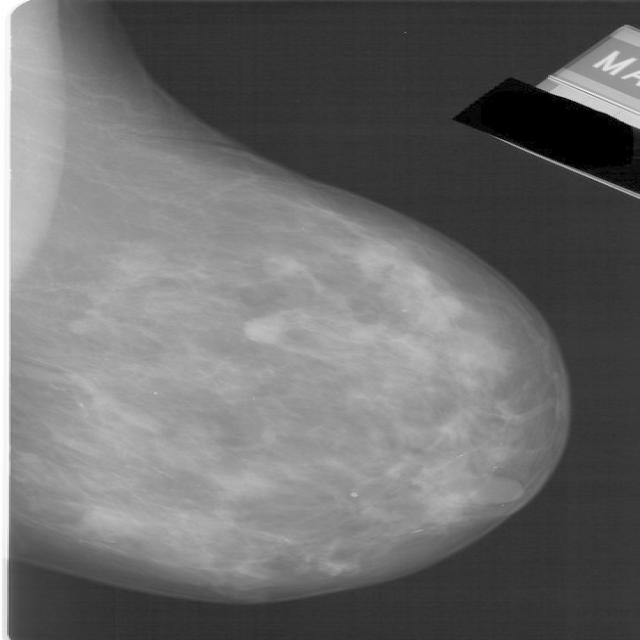tumour: (244, 312, 288, 343)
